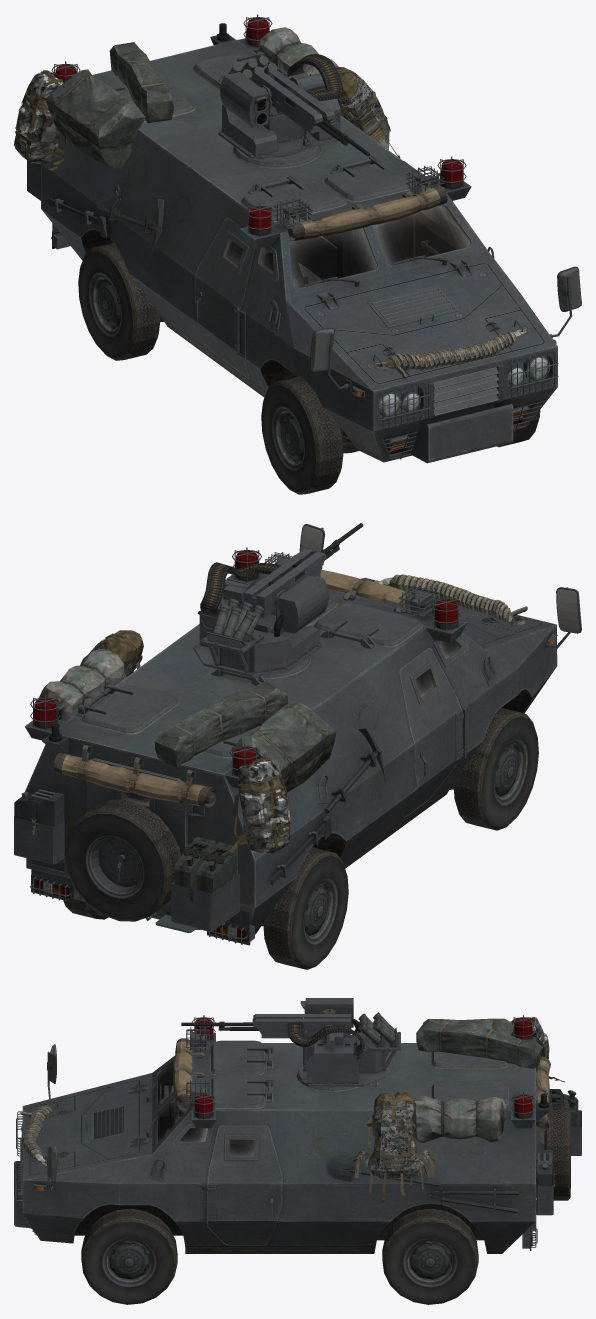
3 views of the same model, one above another, from view 1: azimuth 30°, elevation 25°; view 2: azimuth 150°, elevation 25°; view 3: azimuth 270°, elevation 25° (orthographic). The views are drawn at different scales.
Bounding box in the file's own units: 1.25 × 1.22 × 2.5.
8 materials, 8 textured.
